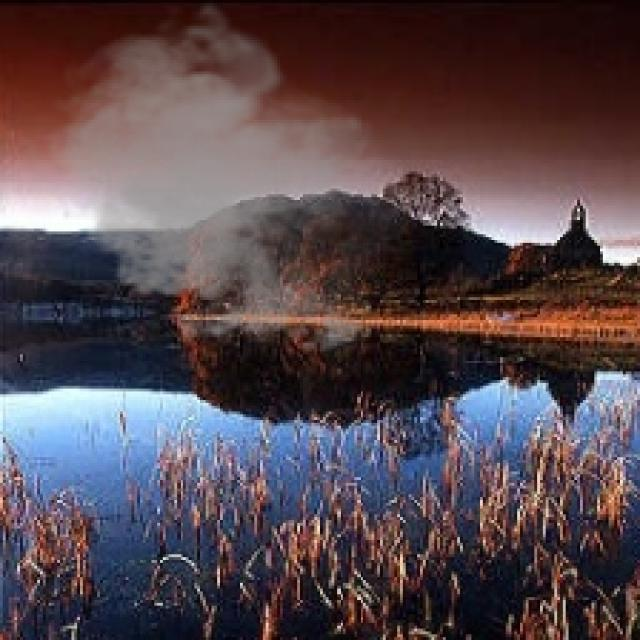smoke: (34, 0, 429, 363)
